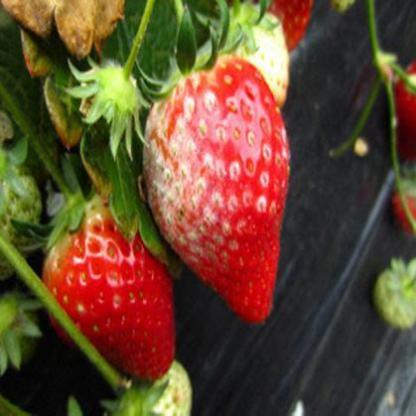Strawberry_Powdery_Mildew_Fruit: (140, 55, 290, 272)
